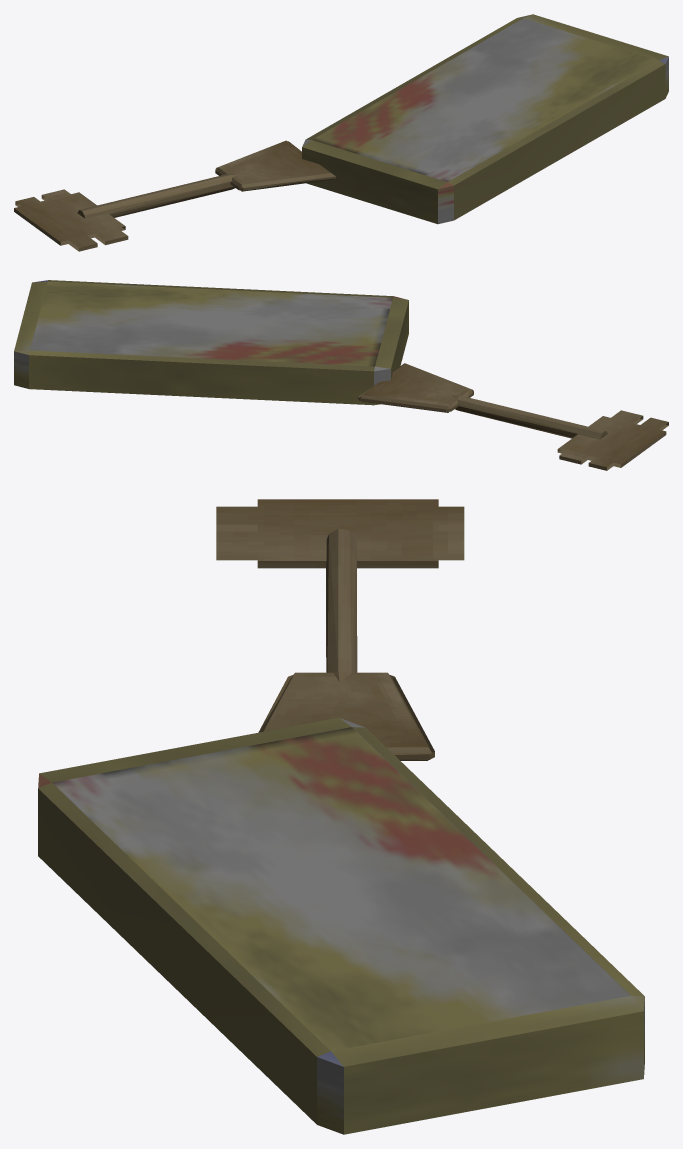
The model's file is LlaveLabs.obj.
The picture shows the model from 3 angles, top to bottom: view 1: azimuth 30°, elevation 25°; view 2: azimuth 150°, elevation 25°; view 3: azimuth 270°, elevation 25°; orthographic projection. The views are drawn at different scales.
Parts seen in each view (by area): view 1: Cube.002, Cube.001, Cube, Cylinder; view 2: Cube.002, Cube.001, Cube, Cylinder; view 3: Cube.002, Cube.001, Cube, Cylinder.
Part boxes in pixels (box(x1,y1,x2,y2)): Cube.002: box(302, 14, 668, 224); Cube.001: box(14, 189, 128, 251); Cube: box(215, 140, 335, 191); Cylinder: box(77, 174, 239, 218); Cube.002: box(14, 280, 408, 405); Cube.001: box(557, 410, 668, 470); Cube: box(358, 363, 473, 412); Cylinder: box(451, 395, 607, 439); Cube.002: box(38, 718, 644, 1134); Cube.001: box(216, 499, 464, 568); Cube: box(258, 672, 434, 760); Cylinder: box(326, 528, 357, 681).
Bounding box in the file's own units: 14.89 × 0.8608 × 6.38.
